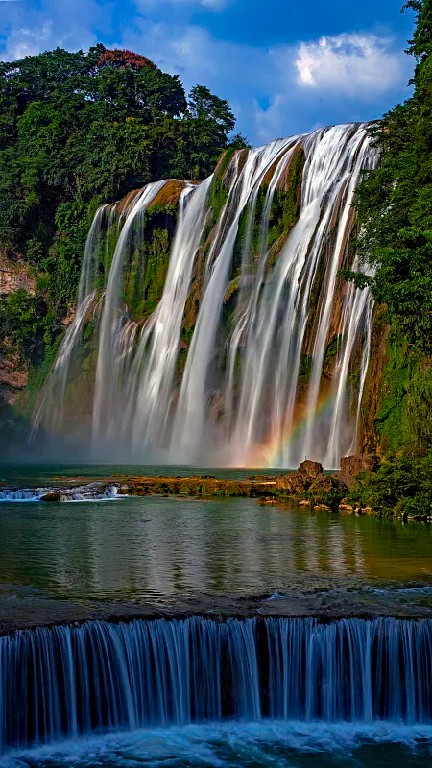Huangguoshu: (29, 125, 374, 468)
